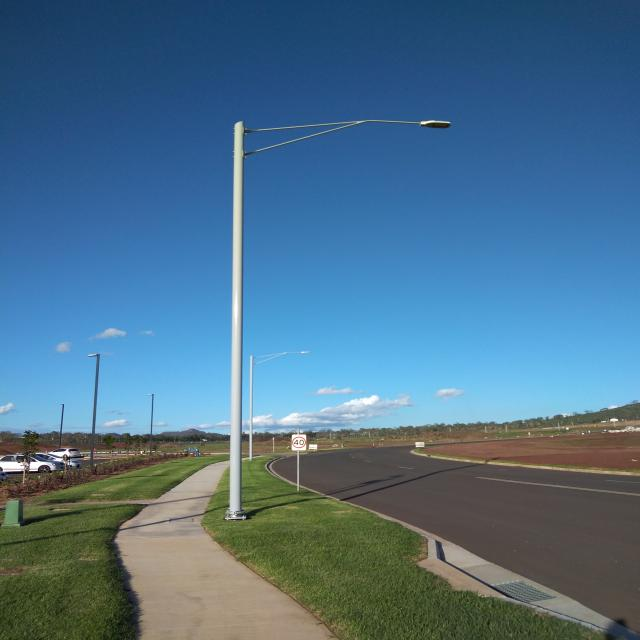Electric pole: (225, 119, 451, 521)
